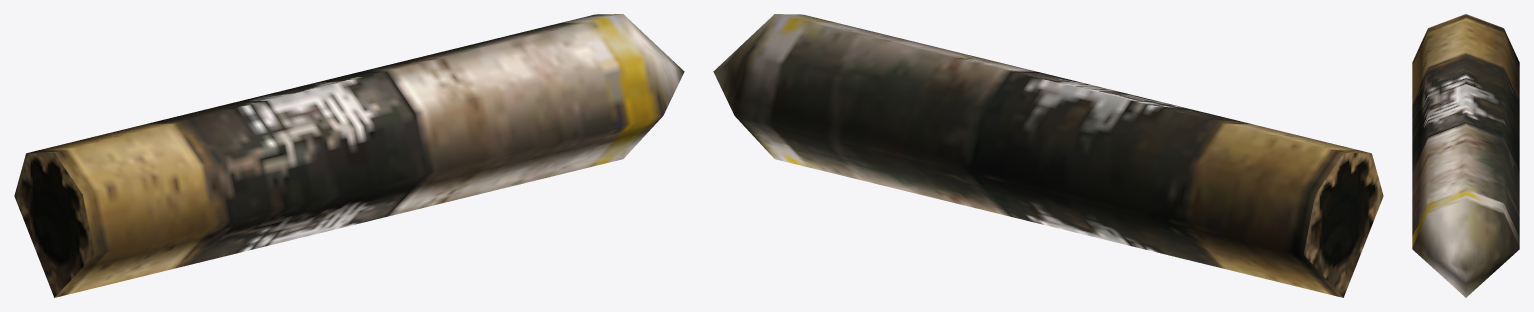
File: projectile_at4_LOD0.obj
3 views of the same model, side by side, from view 1: azimuth 30°, elevation 25°; view 2: azimuth 150°, elevation 25°; view 3: azimuth 270°, elevation 25° (orthographic). The views are drawn at different scales.
Parts seen in each view (by area): view 1: mtl_weapon_at4; view 2: mtl_weapon_at4; view 3: mtl_weapon_at4.
Part boxes in pixels (box(x1,y1,x2,y2)): mtl_weapon_at4: box(14, 14, 684, 297); mtl_weapon_at4: box(713, 14, 1383, 297); mtl_weapon_at4: box(1412, 14, 1519, 297).
Bounding box in the file's own units: 26.6 × 5.85 × 5.85.
